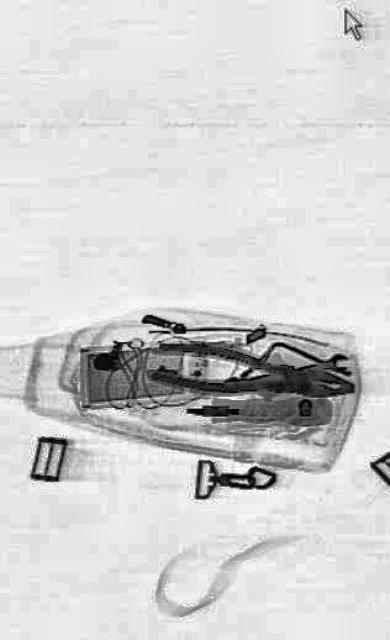Pliers: (149, 334, 355, 408)
Wrench: (220, 346, 348, 399)
